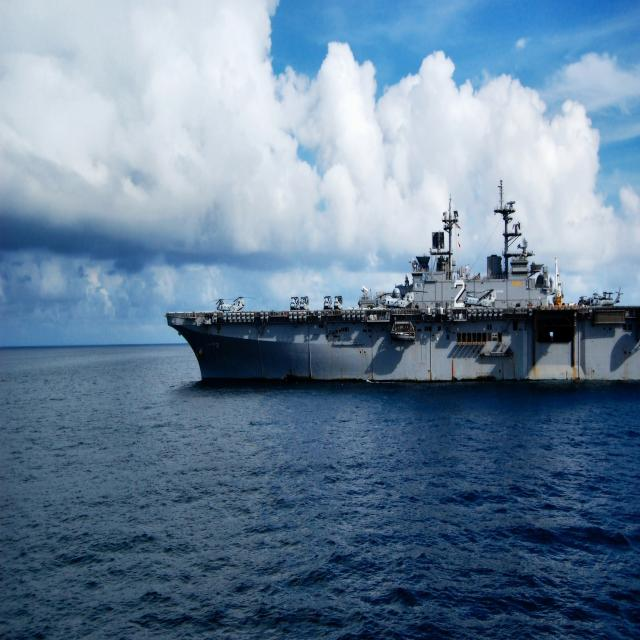navalvessels: (163, 160, 640, 410)
